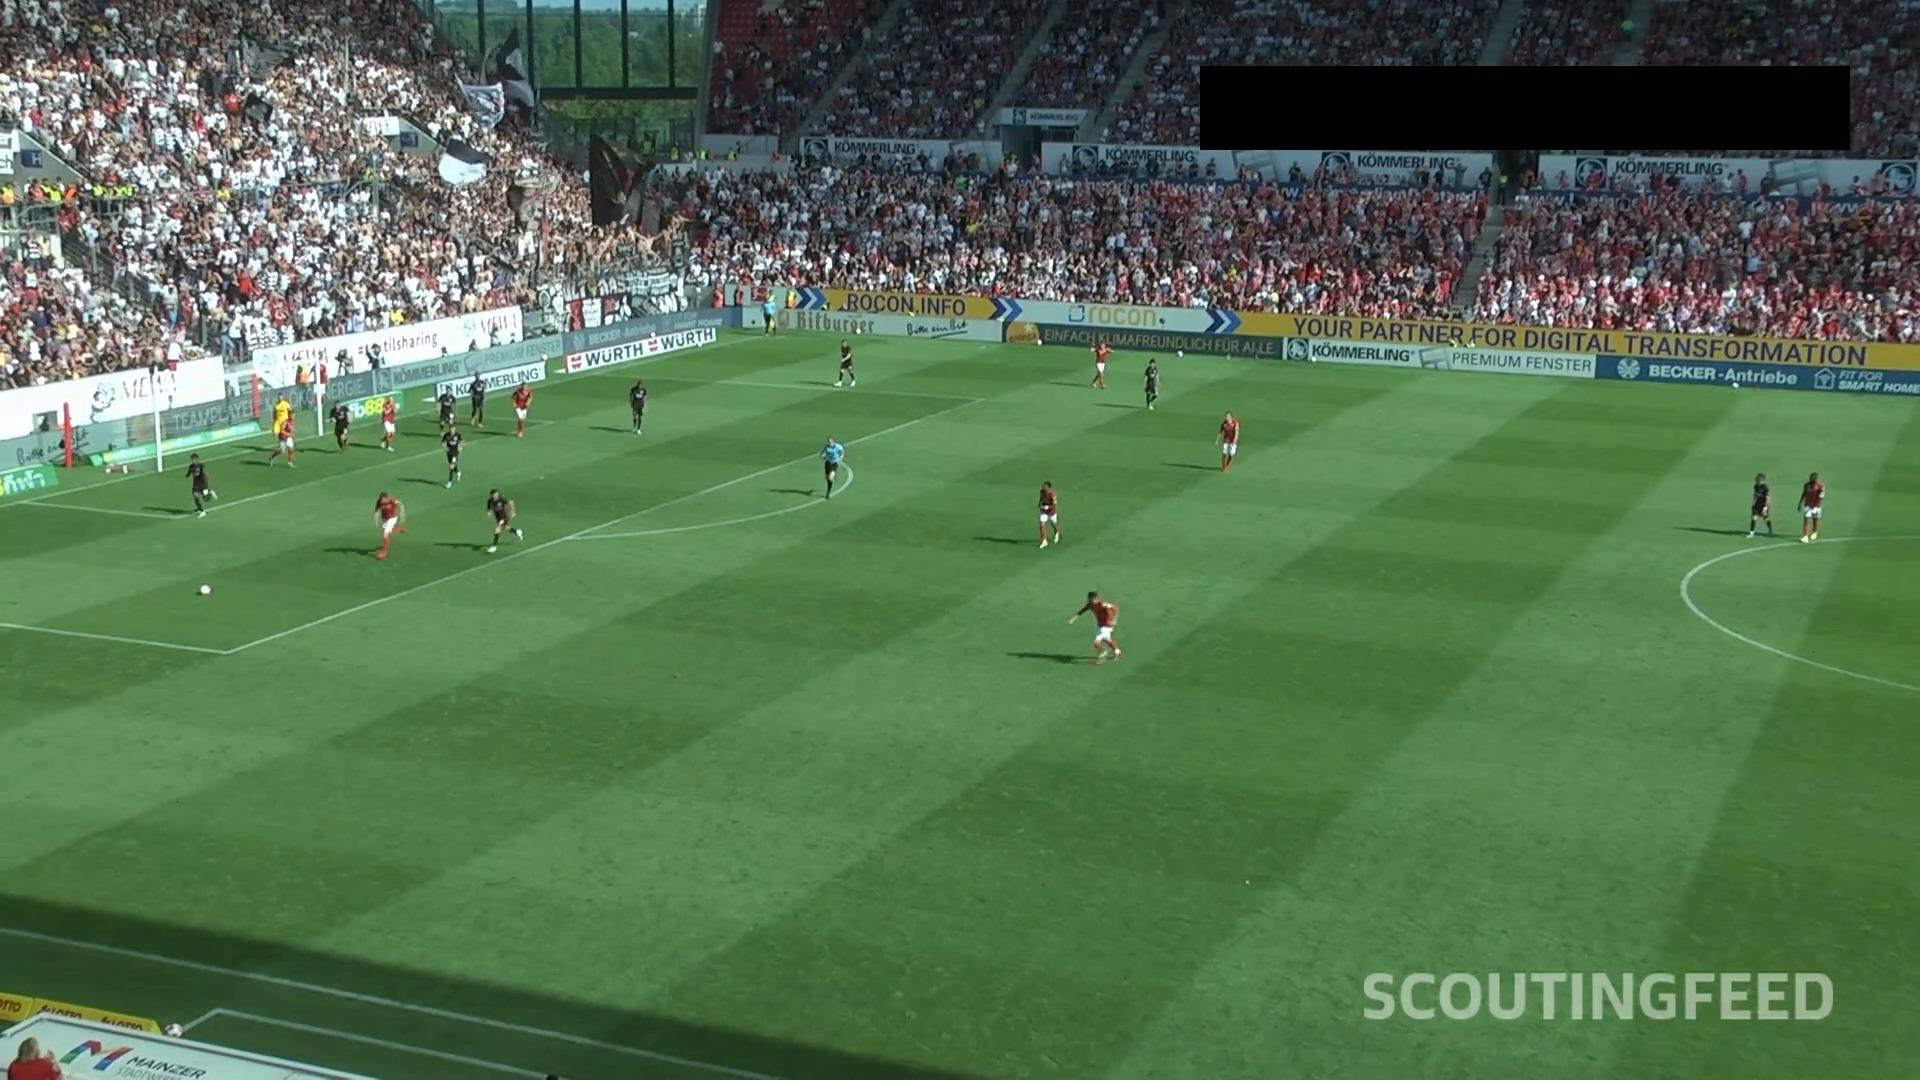ball: (199, 584, 211, 595)
